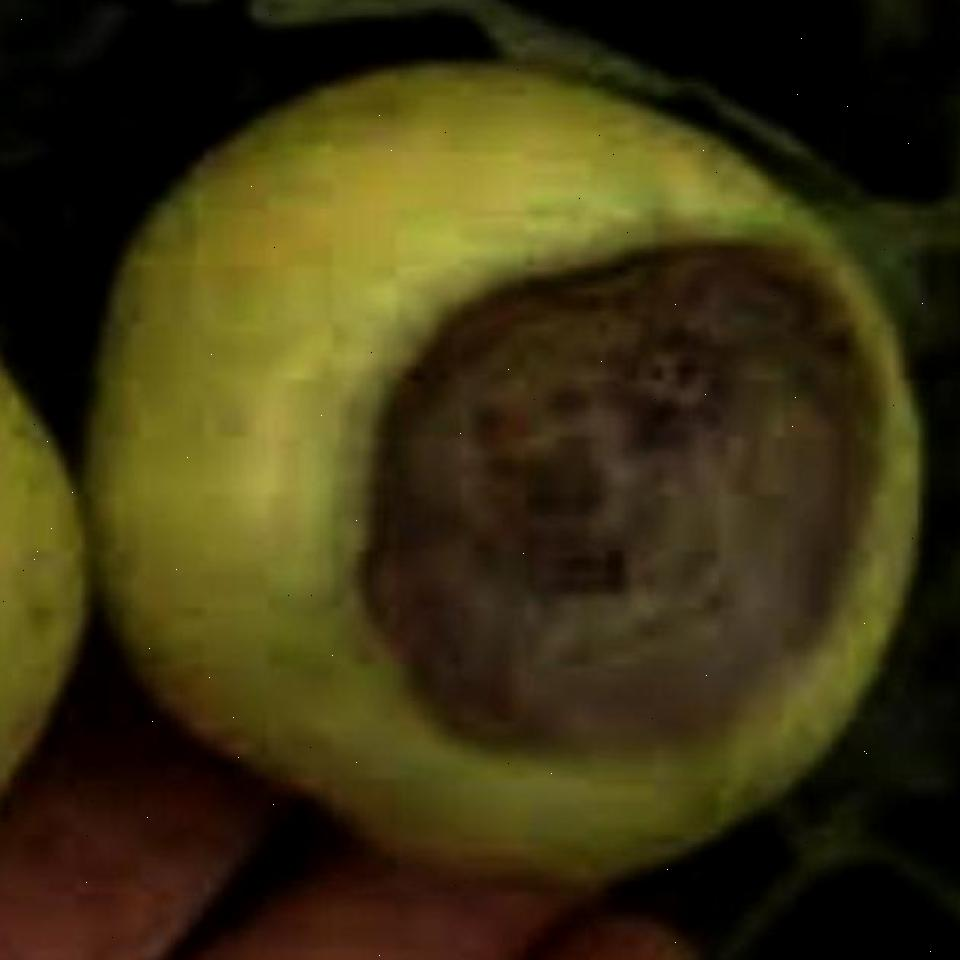Blossom_end_rot: (355, 240, 893, 780)
